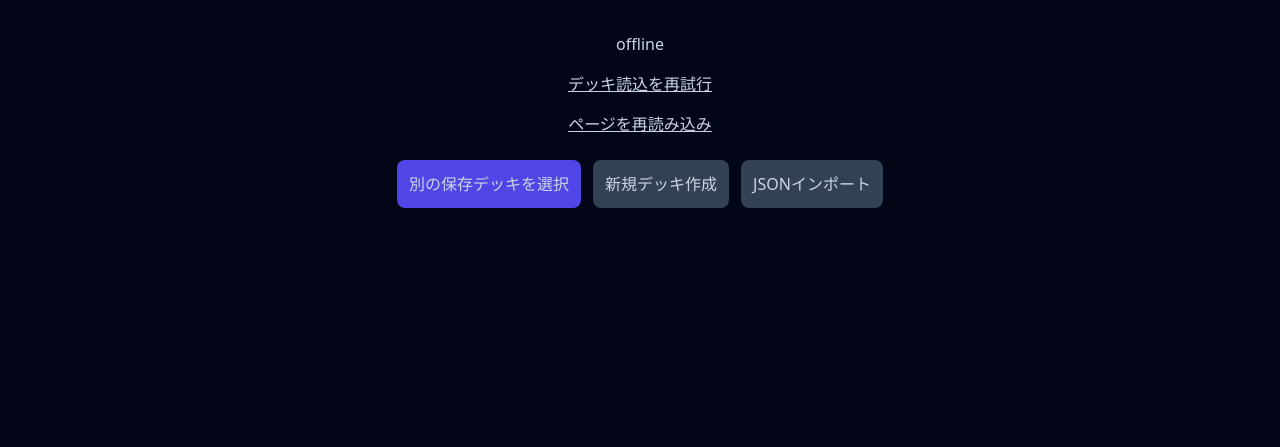
it: allows creating a new deck without overwriting the failed deck or retaining its error
Expected: the message shows "offline", [616,33,664,55]
What coordinates should you click on to do the following:
click the button "新規デッキ作成"
I would click on:
 (661, 184)
Its box is [593,160,729,208].
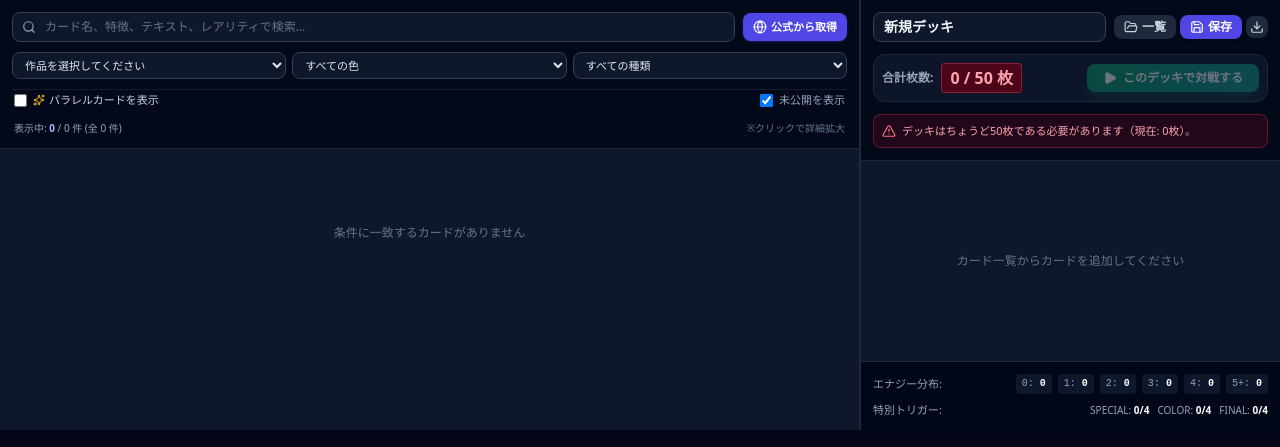
Now the field with placeholder "デッキ名を入力..." holds "新規デッキ", box [873,12,1106,42]
Now the message "offline デッキ読込を再試行 ページを再読み込み" is gone
